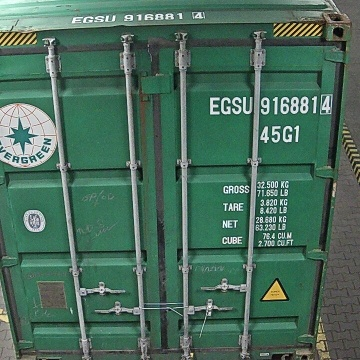serial_id: (208, 95, 332, 115)
